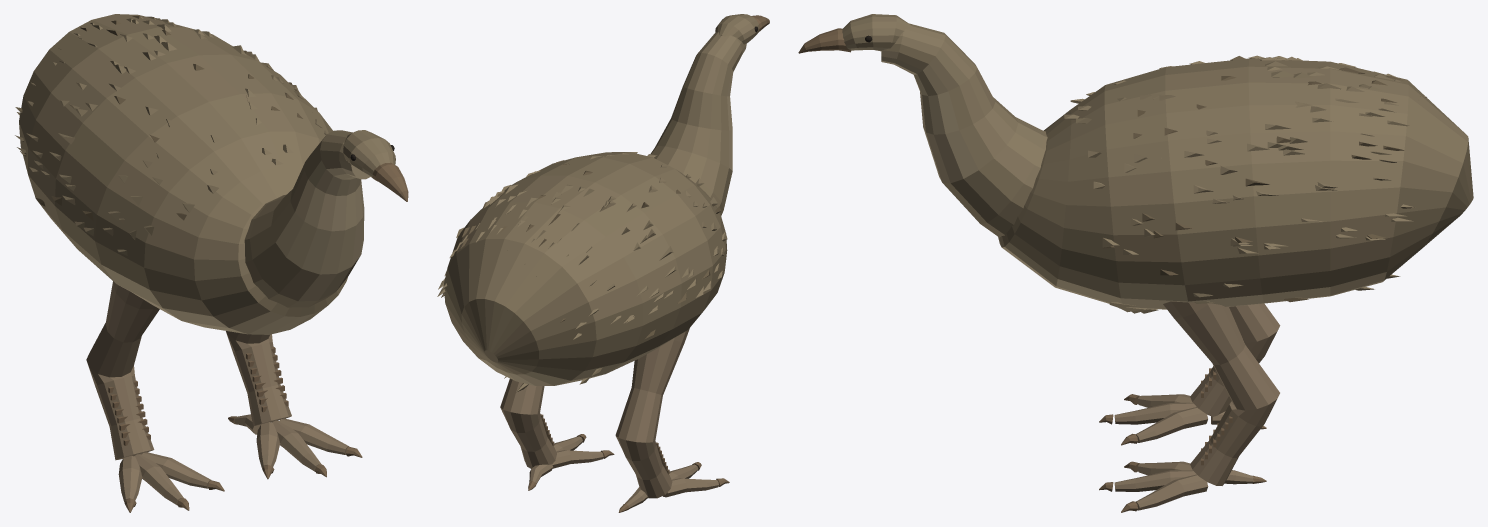
3 views of the same model, side by side, from view 1: azimuth 30°, elevation 25°; view 2: azimuth 150°, elevation 25°; view 3: azimuth 270°, elevation 25° (orthographic). The views are drawn at different scales.
Parts seen in each view (by area): view 1: broad-wingless-feathered-trunk, forward-curving-feathered-neck, left-stout-leg-with-short-tarsus, restrained-rearward-shag-contour, right-stout-leg-with-short-tarsus, small-rounded-moa-head, subtle-tarsal-scutes, right-forward-toe-2, left-forward-toe-2, left-forward-toe-3, right-forward-toe-3, right-forward-toe-1 (+2 smaller); view 2: broad-wingless-feathered-trunk, forward-curving-feathered-neck, left-stout-leg-with-short-tarsus, restrained-rearward-shag-contour, right-stout-leg-with-short-tarsus, small-rounded-moa-head, left-forward-toe-1, right-forward-toe-1; view 3: broad-wingless-feathered-trunk, forward-curving-feathered-neck, right-stout-leg-with-short-tarsus, restrained-rearward-shag-contour, left-stout-leg-with-short-tarsus, small-rounded-moa-head, right-forward-toe-3, left-forward-toe-3, left-forward-toe-2, right-forward-toe-2, stout-decurved-bill.
Part boxes in pixels (box(x1,y1,x2,y2)): broad-wingless-feathered-trunk: box(19, 14, 347, 334); forward-curving-feathered-neck: box(244, 130, 370, 307); left-stout-leg-with-short-tarsus: box(86, 281, 159, 460); restrained-rearward-shag-contour: box(15, 16, 327, 255); right-stout-leg-with-short-tarsus: box(226, 331, 291, 425); small-rounded-moa-head: box(343, 130, 395, 177); subtle-tarsal-scutes: box(108, 347, 288, 445); right-forward-toe-2: box(272, 420, 321, 471); left-forward-toe-2: box(134, 454, 183, 505); left-forward-toe-3: box(142, 452, 210, 488); right-forward-toe-3: box(279, 418, 348, 454); right-forward-toe-1: box(256, 422, 280, 469); broad-wingless-feathered-trunk: box(443, 152, 727, 385); forward-curving-feathered-neck: box(650, 32, 746, 215); left-stout-leg-with-short-tarsus: box(615, 328, 689, 498); restrained-rearward-shag-contour: box(437, 152, 727, 392); right-stout-leg-with-short-tarsus: box(500, 378, 556, 468); small-rounded-moa-head: box(715, 14, 759, 44); left-forward-toe-1: box(663, 478, 718, 497); right-forward-toe-1: box(552, 450, 603, 468); broad-wingless-feathered-trunk: box(998, 58, 1473, 309); forward-curving-feathered-neck: box(881, 23, 1047, 237); right-stout-leg-with-short-tarsus: box(1163, 301, 1279, 485); restrained-rearward-shag-contour: box(1064, 55, 1426, 313); left-stout-leg-with-short-tarsus: box(1190, 303, 1280, 416); small-rounded-moa-head: box(842, 14, 911, 51); right-forward-toe-3: box(1135, 474, 1208, 510); left-forward-toe-3: box(1135, 407, 1207, 442); left-forward-toe-2: box(1114, 402, 1196, 424); right-forward-toe-2: box(1114, 470, 1196, 491); stout-decurved-bill: box(798, 28, 851, 53).
Size of the model in its own units: 0.6834 by 1.13 by 1.56.
